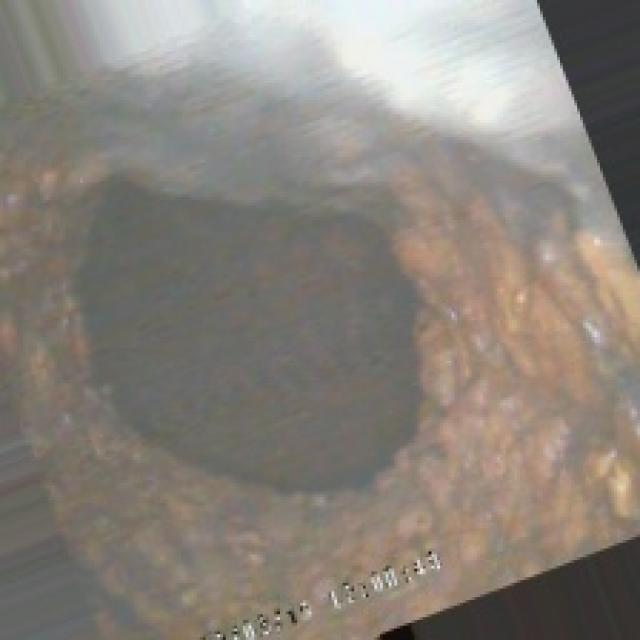encrustation: (60, 169, 449, 497)
